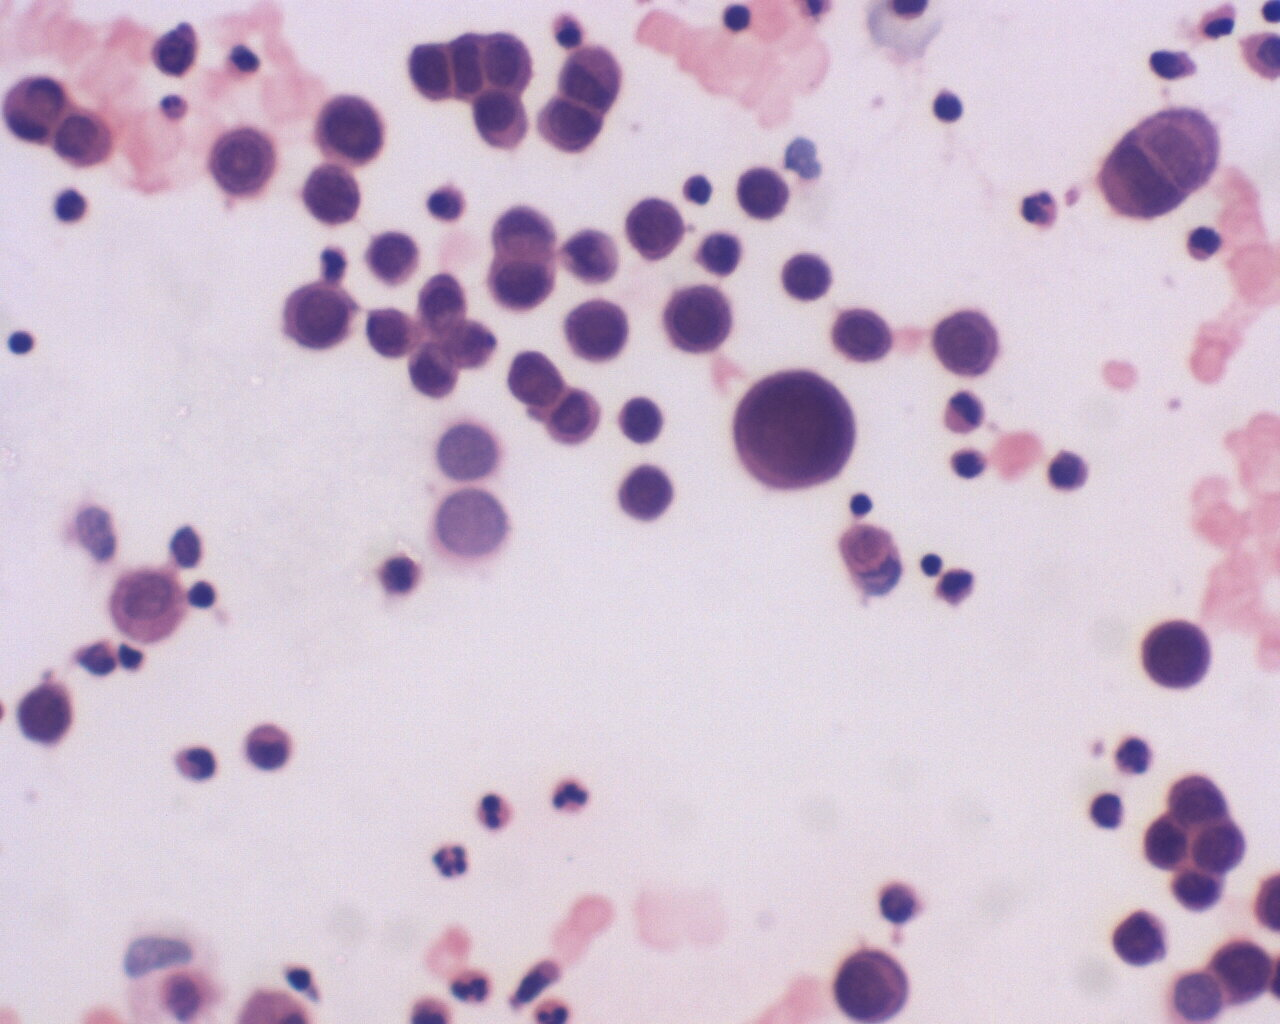ab: (726, 364, 855, 498), (1099, 93, 1226, 225), (831, 945, 915, 1024), (207, 124, 285, 204), (1138, 615, 1214, 693), (665, 282, 740, 358), (929, 306, 1004, 382), (283, 282, 357, 356), (315, 95, 390, 166), (487, 252, 563, 313), (536, 97, 608, 161), (825, 302, 897, 366), (296, 158, 358, 230), (564, 293, 631, 359), (1158, 769, 1234, 827), (623, 196, 685, 265), (467, 88, 530, 157), (506, 349, 573, 409), (1106, 907, 1168, 969), (359, 298, 419, 363), (732, 162, 792, 224)
neutro: (545, 773, 594, 820), (473, 786, 523, 830), (429, 839, 478, 884)
